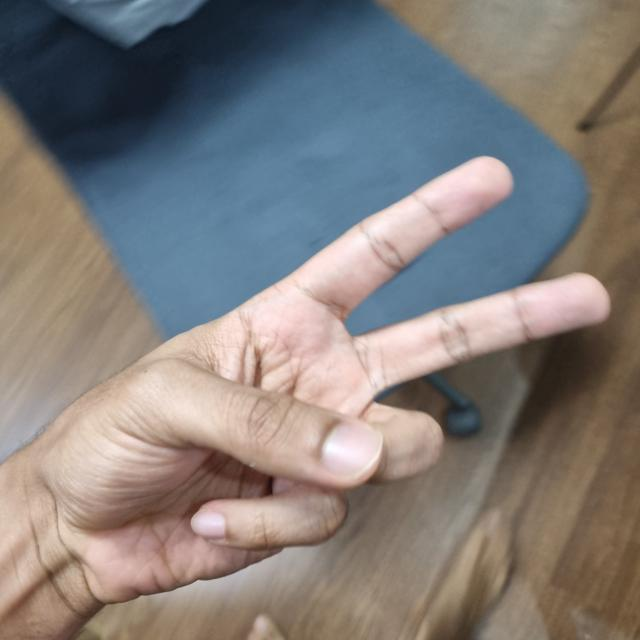Scissors: (4, 157, 607, 601)
